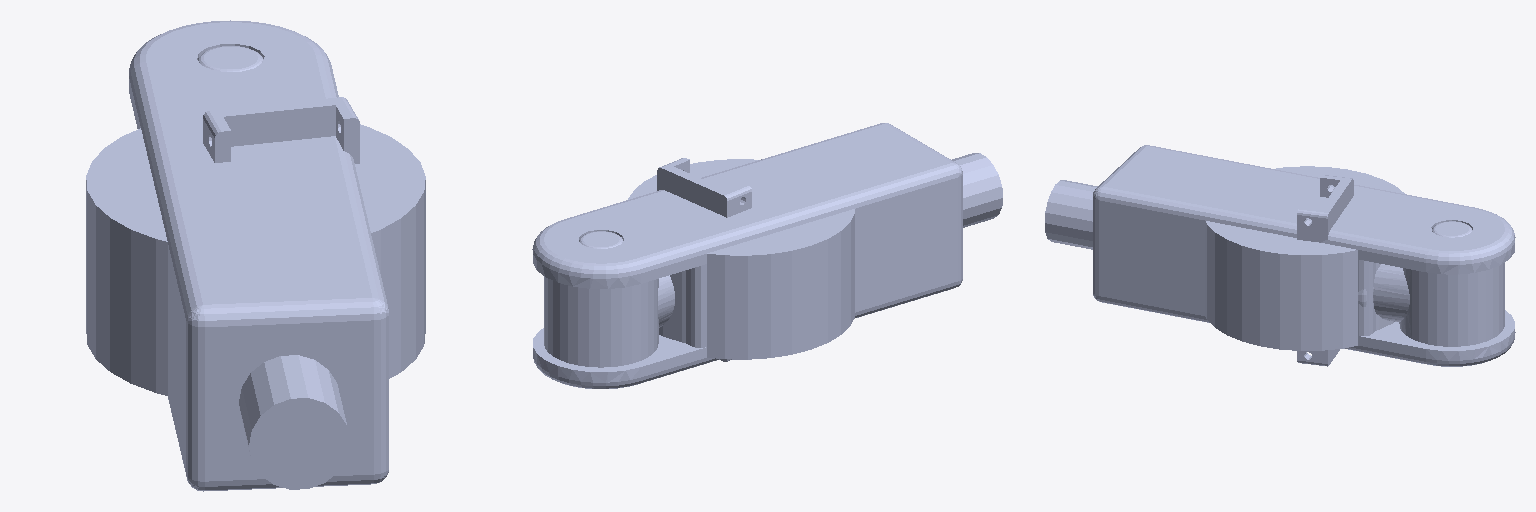
URDF robot description (assem1):
<robot
  name="assem1">
  <link
    name="base_link">
    <inertial>
      <origin
        xyz="0.016193 0.0075597 0.16932"
        rpy="0 0 0" />
      <mass
        value="1.0825" />
      <inertia
        ixx="0.0024312"
        ixy="-3.6924E-07"
        ixz="-2.405E-05"
        iyy="0.0024643"
        iyz="4.5304E-07"
        izz="0.001404" />
    </inertial>
    <visual>
      <origin
        xyz="0 0 0"
        rpy="0 0 0" />
      <geometry>
        <mesh
          filename="package://assem1/meshes/base_link.STL" />
      </geometry>
      <material
        name="">
        <color
          rgba="0.79216 0.81961 0.93333 1" />
      </material>
    </visual>
    <collision>
      <origin
        xyz="0 0 0"
        rpy="0 0 0" />
      <geometry>
        <mesh
          filename="package://assem1/meshes/base_link.STL" />
      </geometry>
    </collision>
  </link>
  <link
    name="Empty_Link1">
    <inertial>
      <origin
        xyz="1.1309E-11 0.10487 -4.2875E-05"
        rpy="0 0 0" />
      <mass
        value="1.0452" />
      <inertia
        ixx="0.0036841"
        ixy="2.7729E-15"
        ixz="-2.6194E-13"
        iyy="0.001124"
        iyz="-3.2761E-06"
        izz="0.0035066" />
    </inertial>
    <visual>
      <origin
        xyz="0 0 0"
        rpy="0 0 0" />
      <geometry>
        <mesh
          filename="package://assem1/meshes/Empty_Link1.STL" />
      </geometry>
      <material
        name="">
        <color
          rgba="0.79216 0.81961 0.93333 1" />
      </material>
    </visual>
    <collision>
      <origin
        xyz="0 0 0"
        rpy="0 0 0" />
      <geometry>
        <mesh
          filename="package://assem1/meshes/Empty_Link1.STL" />
      </geometry>
    </collision>
  </link>
  <joint
    name="j1"
    type="revolute">
    <origin
      xyz="0.016815 -0.21118 0.0075661"
      rpy="3.1416 1.5708 0" />
    <parent
      link="base_link" />
    <child
      link="Empty_Link1" />
    <axis
      xyz="-1 0 0" />
    <limit
      lower="3"
      upper="3"
      effort="10"
      velocity="5" />
  </joint>
  <link
    name="Empty_Link2">
    <inertial>
      <origin
        xyz="1.8745E-05 -2.2012E-10 0.17005"
        rpy="0 0 0" />
      <mass
        value="2.3511" />
      <inertia
        ixx="0.029845"
        ixy="-1.2972E-10"
        ixz="-3.919E-06"
        iyy="0.029188"
        iyz="1.905E-10"
        izz="0.0037161" />
    </inertial>
    <visual>
      <origin
        xyz="0 0 0"
        rpy="0 0 0" />
      <geometry>
        <mesh
          filename="package://assem1/meshes/Empty_Link2.STL" />
      </geometry>
      <material
        name="">
        <color
          rgba="0.79216 0.81961 0.93333 1" />
      </material>
    </visual>
    <collision>
      <origin
        xyz="0 0 0"
        rpy="0 0 0" />
      <geometry>
        <mesh
          filename="package://assem1/meshes/Empty_Link2.STL" />
      </geometry>
    </collision>
  </link>
  <joint
    name="j2"
    type="revolute">
    <origin
      xyz="0 0.17 0"
      rpy="3.1416 -3.4694E-15 -1.5708" />
    <parent
      link="Empty_Link1" />
    <child
      link="Empty_Link2" />
    <axis
      xyz="0 1 0" />
    <limit
      lower="3"
      upper="3"
      effort="5"
      velocity="10" />
  </joint>
  <link
    name="Empty_Link3">
    <inertial>
      <origin
        xyz="-2.6021E-18 -0.027892 0"
        rpy="0 0 0" />
      <mass
        value="0.54972" />
      <inertia
        ixx="0.0013982"
        ixy="2.4899E-20"
        ixz="6.443E-20"
        iyy="0.00041621"
        iyz="6.5024E-20"
        izz="0.0012282" />
    </inertial>
    <visual>
      <origin
        xyz="0 0 0"
        rpy="0 0 0" />
      <geometry>
        <mesh
          filename="package://assem1/meshes/Empty_Link3.STL" />
      </geometry>
      <material
        name="">
        <color
          rgba="0.79216 0.81961 0.93333 1" />
      </material>
    </visual>
    <collision>
      <origin
        xyz="0 0 0"
        rpy="0 0 0" />
      <geometry>
        <mesh
          filename="package://assem1/meshes/Empty_Link3.STL" />
      </geometry>
    </collision>
  </link>
  <joint
    name="j3"
    type="revolute">
    <origin
      xyz="0 0 0.34"
      rpy="0 0 1.5708" />
    <parent
      link="Empty_Link2" />
    <child
      link="Empty_Link3" />
    <axis
      xyz="1 0 0" />
    <limit
      lower="3"
      upper="3"
      effort="5"
      velocity="10" />
  </joint>
  <link
    name="Empty_Link4">
    <inertial>
      <origin
        xyz="5.5511E-17 0.084926 -3.4694E-18"
        rpy="0 0 0" />
      <mass
        value="0.55242" />
      <inertia
        ixx="0.0015014"
        ixy="-7.1923E-22"
        ixz="-9.3833E-20"
        iyy="0.00035532"
        iyz="8.7341E-20"
        izz="0.0014817" />
    </inertial>
    <visual>
      <origin
        xyz="0 0 0"
        rpy="0 0 0" />
      <geometry>
        <mesh
          filename="package://assem1/meshes/Empty_Link4.STL" />
      </geometry>
      <material
        name="">
        <color
          rgba="0.79216 0.81961 0.93333 1" />
      </material>
    </visual>
    <collision>
      <origin
        xyz="0 0 0"
        rpy="0 0 0" />
      <geometry>
        <mesh
          filename="package://assem1/meshes/Empty_Link4.STL" />
      </geometry>
    </collision>
  </link>
  <joint
    name="j4"
    type="continuous">
    <origin
      xyz="0 -0.1 0"
      rpy="0 -1.5708 0" />
    <parent
      link="Empty_Link3" />
    <child
      link="Empty_Link4" />
    <axis
      xyz="0 -1 0" />
    <limit
      lower="3"
      upper="3"
      effort="5"
      velocity="10" />
  </joint>
  <link
    name="Empty_Link5">
    <inertial>
      <origin
        xyz="0.0093712 -3.6058E-10 9.2596E-09"
        rpy="0 0 0" />
      <mass
        value="0.11634" />
      <inertia
        ixx="3.5907E-05"
        ixy="8.2527E-12"
        ixz="-4.9497E-11"
        iyy="5.8354E-05"
        iyz="4.8694E-11"
        izz="5.99E-05" />
    </inertial>
    <visual>
      <origin
        xyz="0 0 0"
        rpy="0 0 0" />
      <geometry>
        <mesh
          filename="package://assem1/meshes/Empty_Link5.STL" />
      </geometry>
      <material
        name="">
        <color
          rgba="0.79216 0.81961 0.93333 1" />
      </material>
    </visual>
    <collision>
      <origin
        xyz="0 0 0"
        rpy="0 0 0" />
      <geometry>
        <mesh
          filename="package://assem1/meshes/Empty_Link5.STL" />
      </geometry>
    </collision>
  </link>
  <joint
    name="j5"
    type="revolute">
    <origin
      xyz="0 0.175 0"
      rpy="1.5708 8.6736E-17 1.5708" />
    <parent
      link="Empty_Link4" />
    <child
      link="Empty_Link5" />
    <axis
      xyz="0 1 0" />
    <limit
      lower="3"
      upper="3"
      effort="5"
      velocity="10" />
  </joint>
  <link
    name="Empty_Link6">
    <inertial>
      <origin
        xyz="5.2042E-18 0.019492 0"
        rpy="0 0 0" />
      <mass
        value="0.047638" />
      <inertia
        ixx="1.1093E-05"
        ixy="-3.9884E-21"
        ixz="5.7386E-21"
        iyy="2.5098E-05"
        iyz="-1.0937E-20"
        izz="1.8619E-05" />
    </inertial>
    <visual>
      <origin
        xyz="0 0 0"
        rpy="0 0 0" />
      <geometry>
        <mesh
          filename="package://assem1/meshes/Empty_Link6.STL" />
      </geometry>
      <material
        name="">
        <color
          rgba="0.79216 0.81961 0.93333 1" />
      </material>
    </visual>
    <collision>
      <origin
        xyz="0 0 0"
        rpy="0 0 0" />
      <geometry>
        <mesh
          filename="package://assem1/meshes/Empty_Link6.STL" />
      </geometry>
    </collision>
  </link>
  <joint
    name="j6"
    type="continuous">
    <origin
      xyz="0.035 0 0"
      rpy="5.5511E-15 0 -1.5708" />
    <parent
      link="Empty_Link5" />
    <child
      link="Empty_Link6" />
    <axis
      xyz="0 -1 0" />
    <limit
      lower="3"
      upper="3"
      effort="5"
      velocity="10" />
  </joint>
</robot>

--- Facts derived from the render (not from the file) ---
3 views of the same robot in one strip: view 1: azimuth 30°, elevation 25°; view 2: azimuth 150°, elevation 25°; view 3: azimuth 270°, elevation 25° (orthographic).
Robot: assem1 — 7 links, 6 joints (4 revolute, 2 continuous); root link base_link; default pose: joints at zero except 4 at the middle of their limits (j1 = 3, j2 = 3, j3 = 3, j5 = 3).
Visible links, largest first — view 1: Empty_Link3, Empty_Link4, Empty_Link6, Empty_Link5; view 2: Empty_Link4, Empty_Link3, Empty_Link5, Empty_Link6; view 3: Empty_Link4, Empty_Link3, Empty_Link5, Empty_Link6.
Boxes of the visible links, bbox=[...] form: Empty_Link3: bbox=[86, 124, 425, 490]; Empty_Link4: bbox=[129, 20, 388, 491]; Empty_Link6: bbox=[203, 97, 359, 163]; Empty_Link5: bbox=[198, 46, 263, 71]; Empty_Link4: bbox=[532, 123, 962, 388]; Empty_Link3: bbox=[628, 127, 1002, 359]; Empty_Link5: bbox=[544, 231, 674, 367]; Empty_Link6: bbox=[657, 158, 751, 361]; Empty_Link4: bbox=[1093, 145, 1515, 366]; Empty_Link3: bbox=[1045, 145, 1404, 350]; Empty_Link5: bbox=[1358, 221, 1504, 346]; Empty_Link6: bbox=[1297, 175, 1353, 366].
Size in the robot's own frame: 0.1281 by 0.2229 by 0.08 metres.
4 mesh visuals loaded from 7 distinct referenced files (4 binary STL); not drawn: 3 (reference not matched to a file when rendering).
